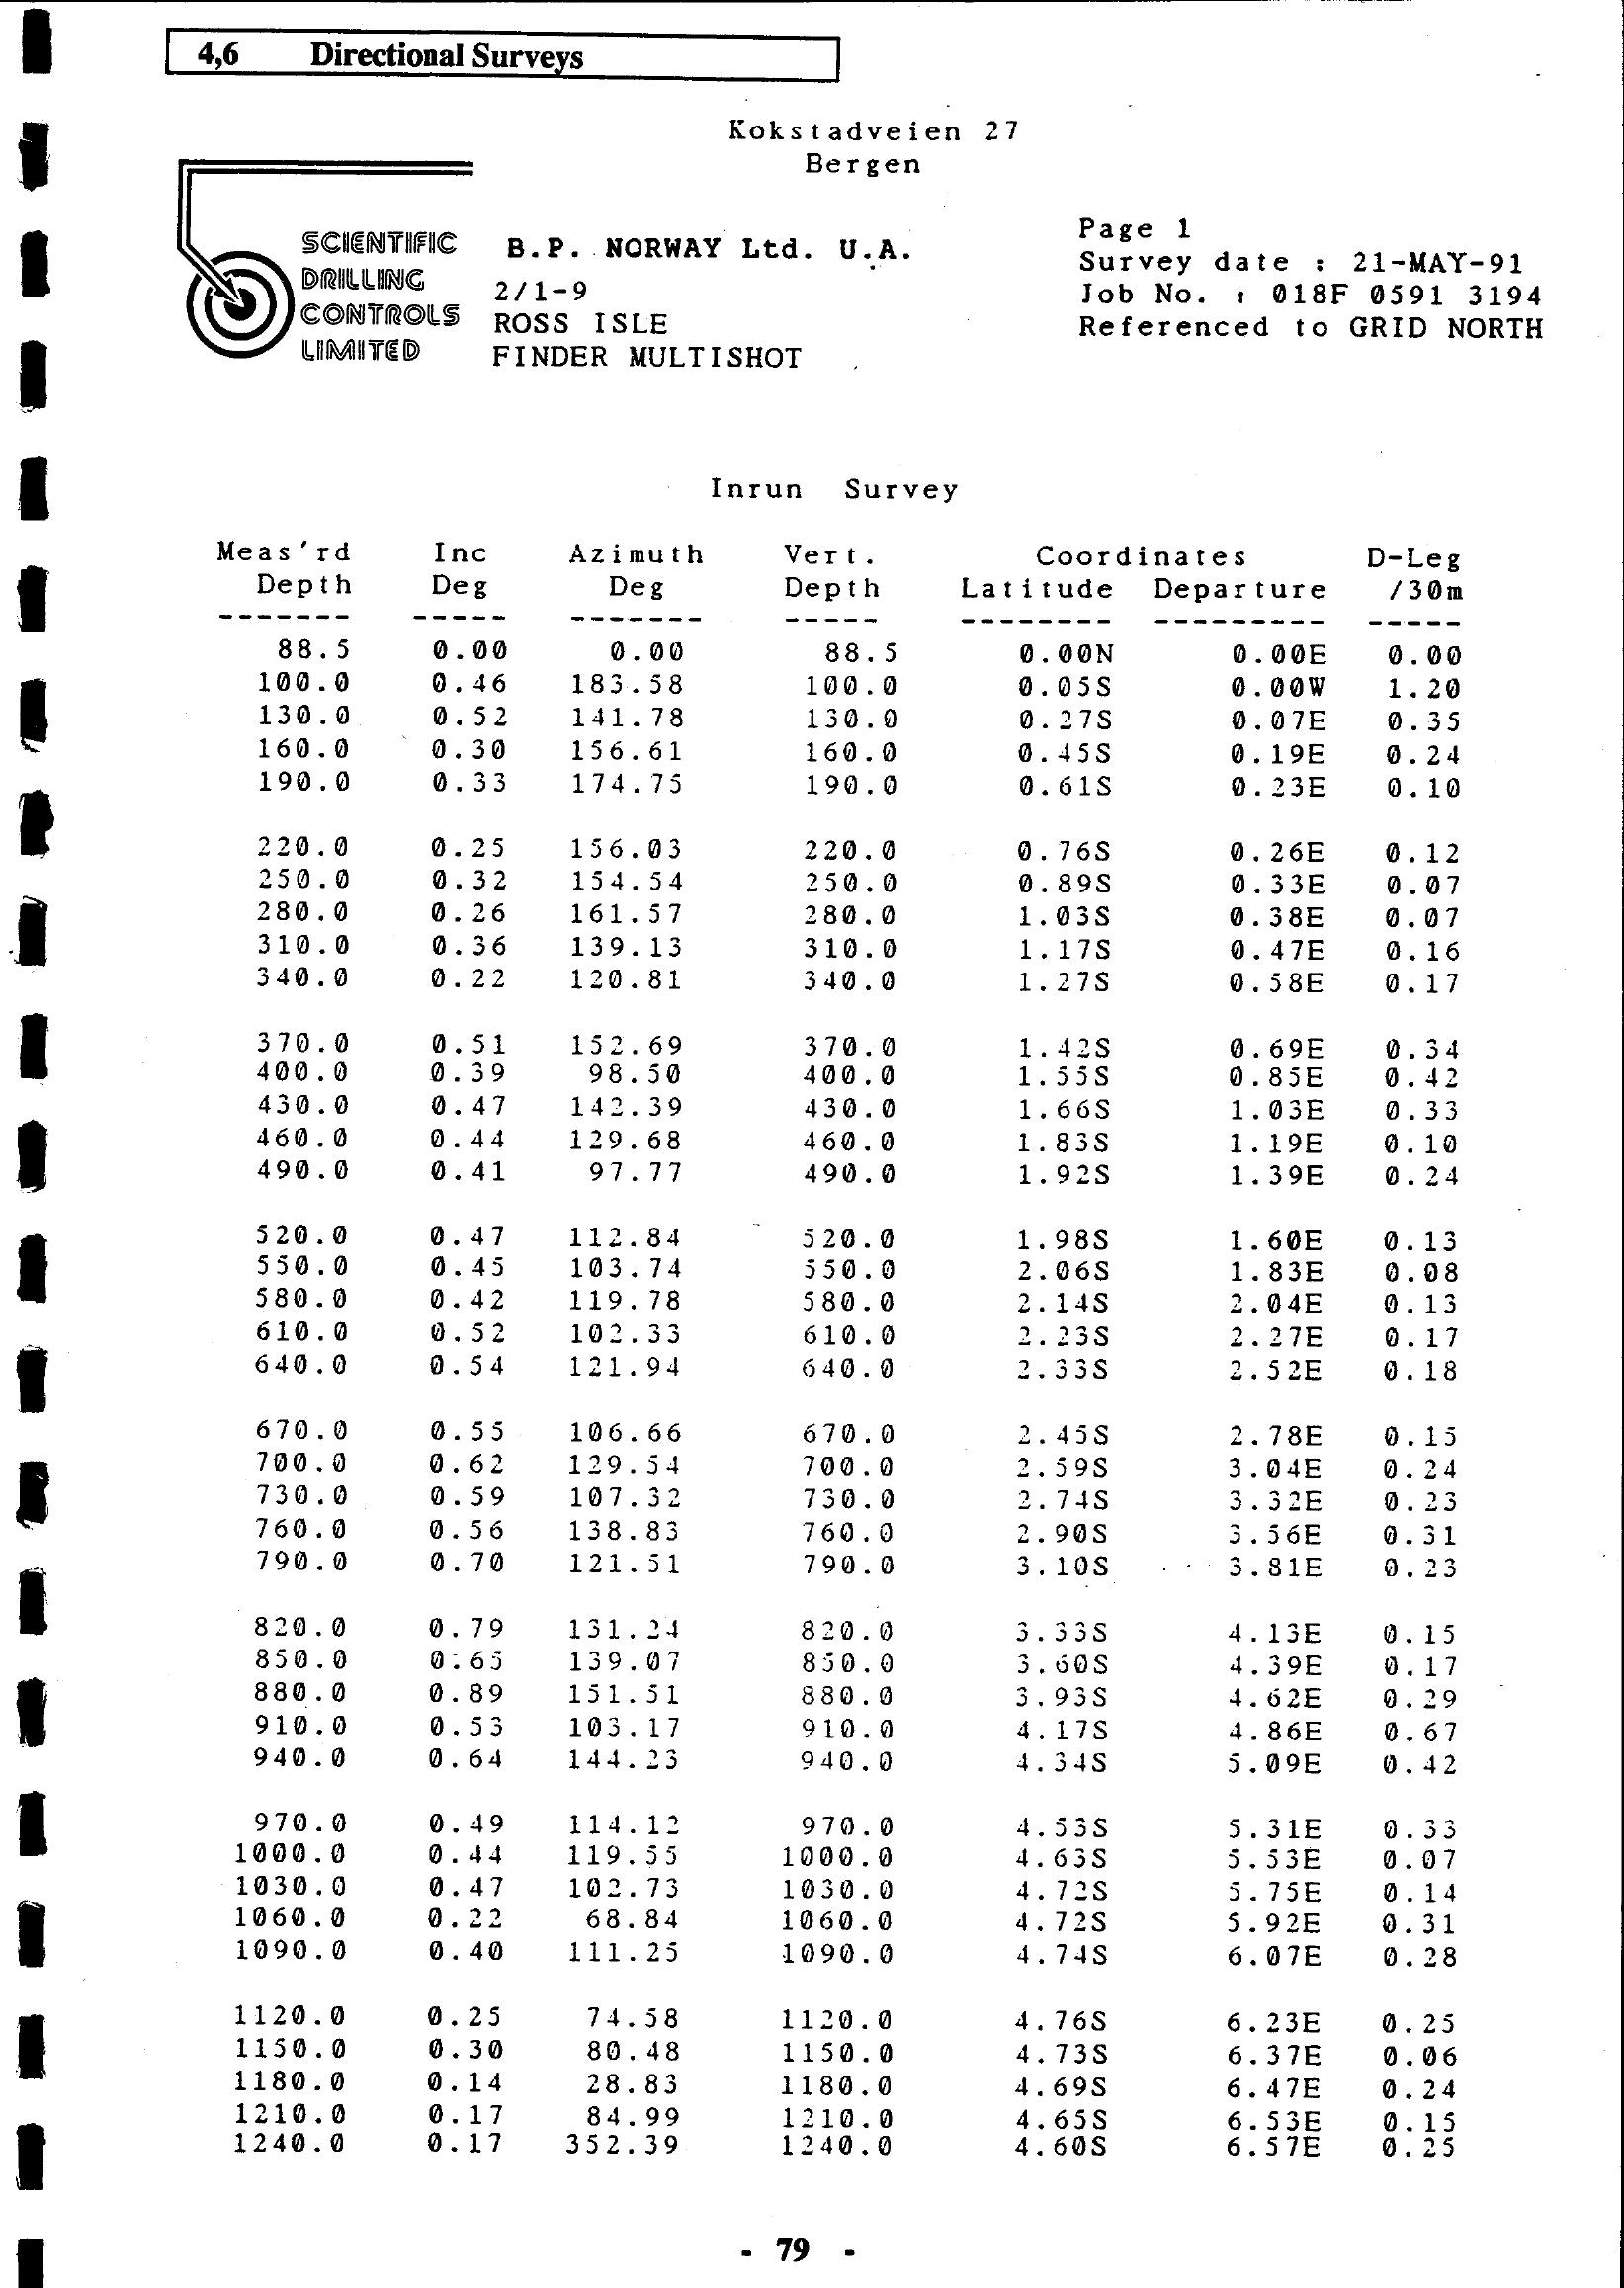table: (130, 439, 1524, 2191)
text: (485, 209, 1561, 390)
undefined: (153, 148, 480, 392)
